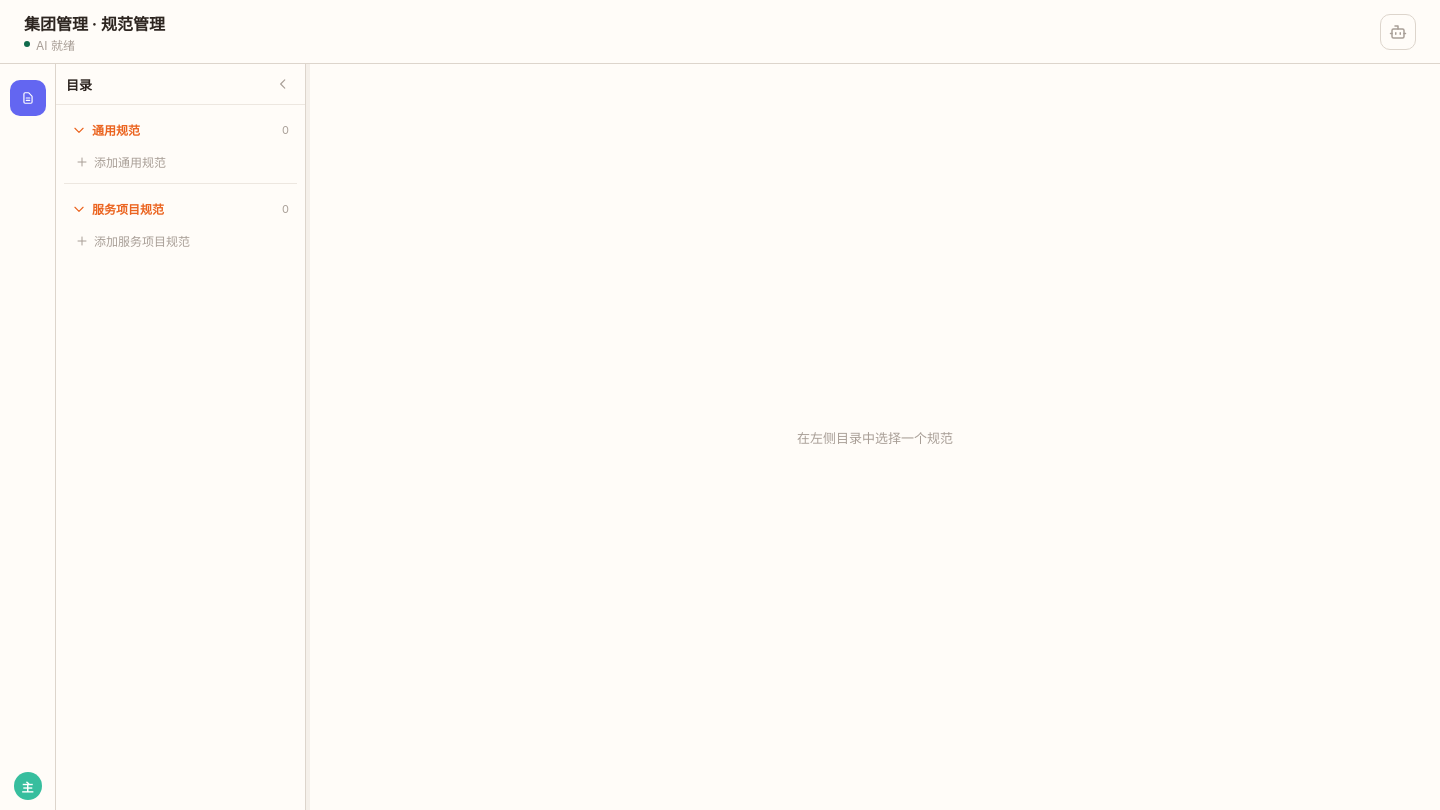
Test: SupervisorPage › shows user avatar in rail and profile menu on click
Note: Click avatar to open profile menu
Click the button named "用户菜单": click(28, 786) [2,762,54,809]
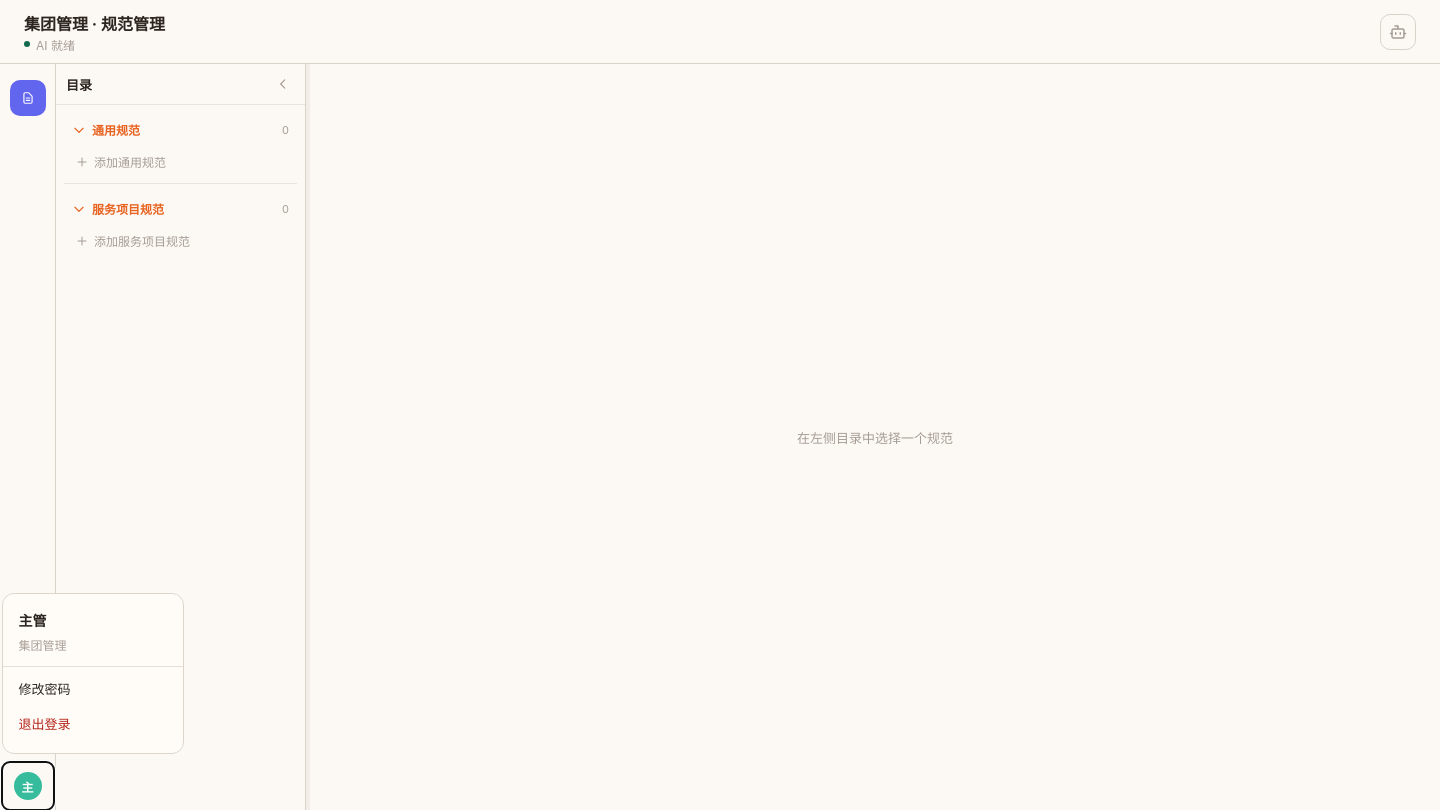
Check: the text "主管" is shown, box [18,614,46,629]
Check: the button "退出登录" is shown, box [2,706,182,741]
